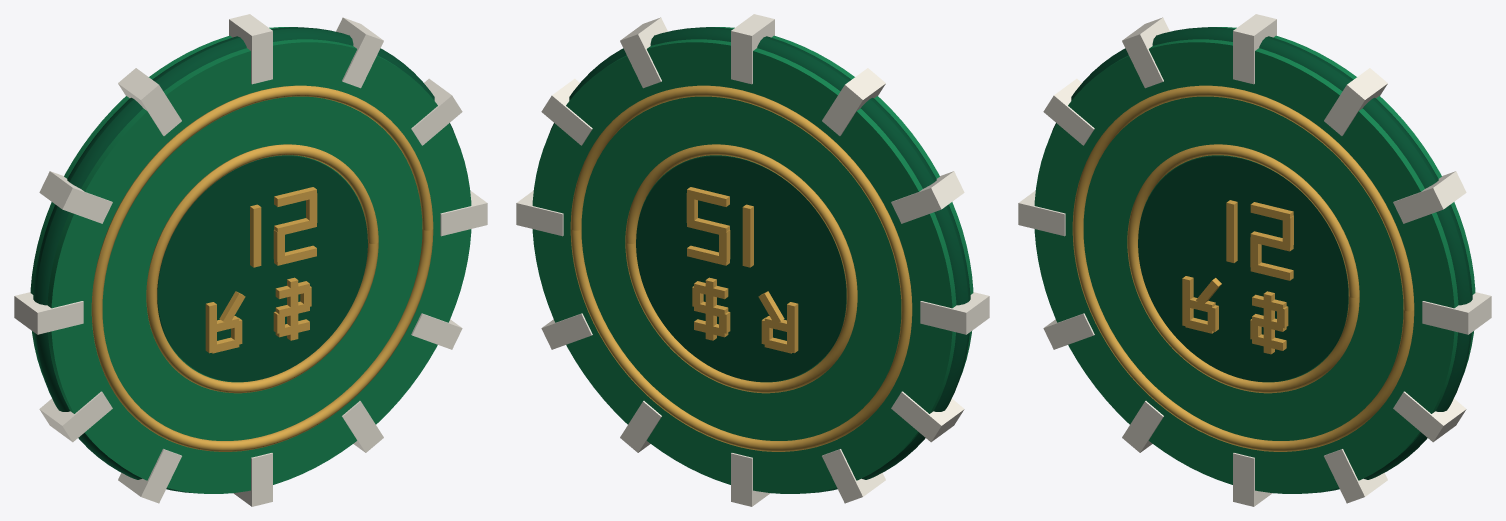
The model's file is verde-15.glb.
3 renders of one model, left to right at view 1: azimuth 30°, elevation 25°; view 2: azimuth 150°, elevation 25°; view 3: azimuth 330°, elevation 25°, orthographic.
Parts seen in each view (by area): view 1: Corpo_Verde, Centro_1, Anel_Dourado_1_1.18, Anel_Dourado_1_0.79, Borda_Externa, Inserto_7, Inserto_9, Inserto_10, Inserto_8, Inserto_6, Inserto_11, Inserto_5 (+7 smaller); view 2: Corpo_Verde, Centro_-1, Anel_Dourado_-1_1.18, Anel_Dourado_-1_0.79, Borda_Externa, Inserto_7, Inserto_9, Inserto_10, Inserto_8, Inserto_6, Inserto_11, Inserto_5 (+7 smaller); view 3: Corpo_Verde, Centro_1, Anel_Dourado_1_1.18, Anel_Dourado_1_0.79, Borda_Externa, Inserto_1, Inserto_11, Inserto_10, Inserto_12, Inserto_2, Inserto_9, Inserto_3 (+6 smaller).
Boxes of the visible parts, x1,y1,x2,y2 form: Corpo_Verde: (30, 27, 471, 493); Centro_1: (157, 155, 367, 381); Anel_Dourado_1_1.18: (91, 85, 433, 451); Anel_Dourado_1_0.79: (146, 144, 378, 393); Borda_Externa: (33, 27, 455, 493); Inserto_7: (14, 292, 83, 334); Inserto_9: (118, 68, 181, 135); Inserto_10: (229, 14, 272, 84); Inserto_8: (39, 171, 112, 223); Inserto_6: (39, 391, 112, 442); Inserto_11: (336, 17, 383, 88); Inserto_5: (118, 449, 181, 503); Corpo_Verde: (532, 27, 973, 493); Centro_-1: (636, 155, 846, 381); Anel_Dourado_-1_1.18: (570, 85, 912, 451); Anel_Dourado_-1_0.79: (625, 144, 857, 393); Borda_Externa: (548, 27, 970, 493); Inserto_7: (920, 292, 989, 334); Inserto_9: (822, 68, 885, 135); Inserto_10: (731, 14, 774, 84); Inserto_8: (891, 171, 964, 223); Inserto_6: (891, 391, 964, 442); Inserto_11: (620, 17, 667, 88); Inserto_5: (822, 449, 885, 503); Corpo_Verde: (1034, 27, 1475, 493); Centro_1: (1138, 155, 1348, 381); Anel_Dourado_1_1.18: (1072, 85, 1414, 451); Anel_Dourado_1_0.79: (1127, 144, 1359, 393); Borda_Externa: (1050, 27, 1472, 493); Inserto_1: (1422, 292, 1491, 334); Inserto_11: (1324, 68, 1387, 135); Inserto_10: (1233, 14, 1276, 84); Inserto_12: (1393, 171, 1466, 223); Inserto_2: (1393, 391, 1466, 442); Inserto_9: (1122, 17, 1169, 88); Inserto_3: (1324, 449, 1387, 503).
Bounding box in the file's own units: 3.21 × 3.21 × 0.385.
